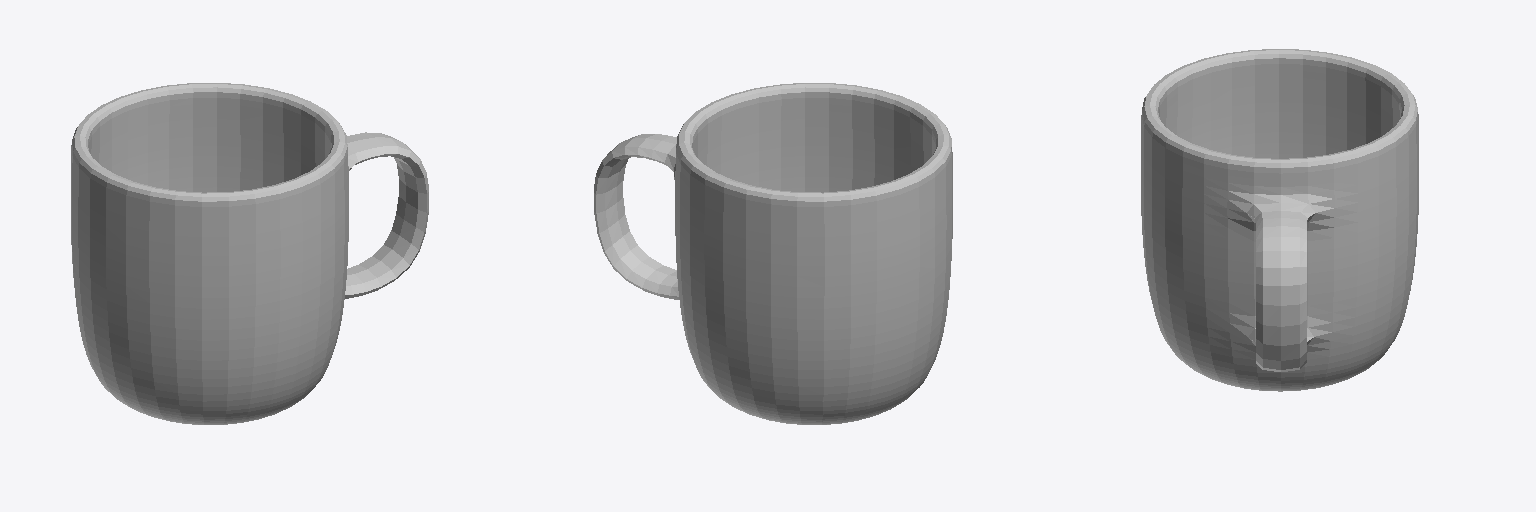
The model's file is cup.obj.
The picture shows the model from 3 angles: view 1: azimuth 30°, elevation 25°; view 2: azimuth 150°, elevation 25°; view 3: azimuth 270°, elevation 25°; orthographic projection.
Visible parts, largest first — view 1: BezierCurve; view 2: BezierCurve; view 3: BezierCurve.
Part boxes in pixels (x1,y1,x2,y2): BezierCurve: (71, 83, 428, 424); BezierCurve: (594, 83, 952, 424); BezierCurve: (1141, 49, 1418, 391).
Size of the model in its own units: 0.2836 by 0.2088 by 0.2051.